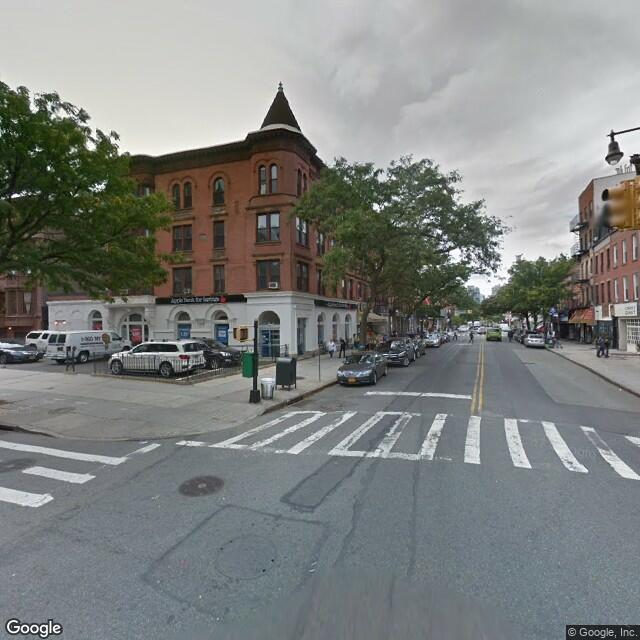litter: (611, 382, 636, 399), (7, 564, 22, 586)
